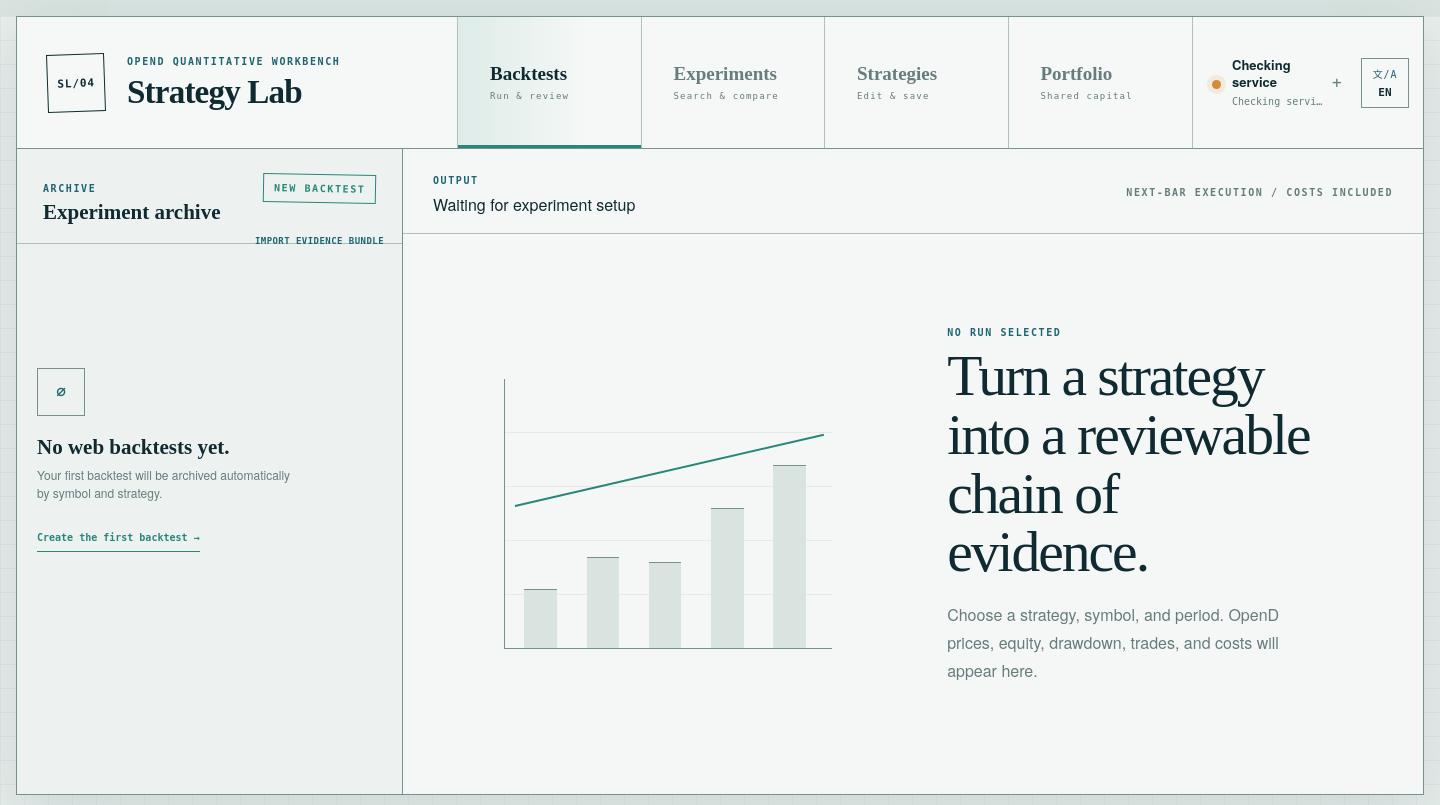
Test: workspace entity routes › moves the empty archive to a durable new-backtest URL
This screenshot has width=1440, height=805.
Click the button "Create the first backtest →". click: (118, 538)
box: [37,525,200,552]
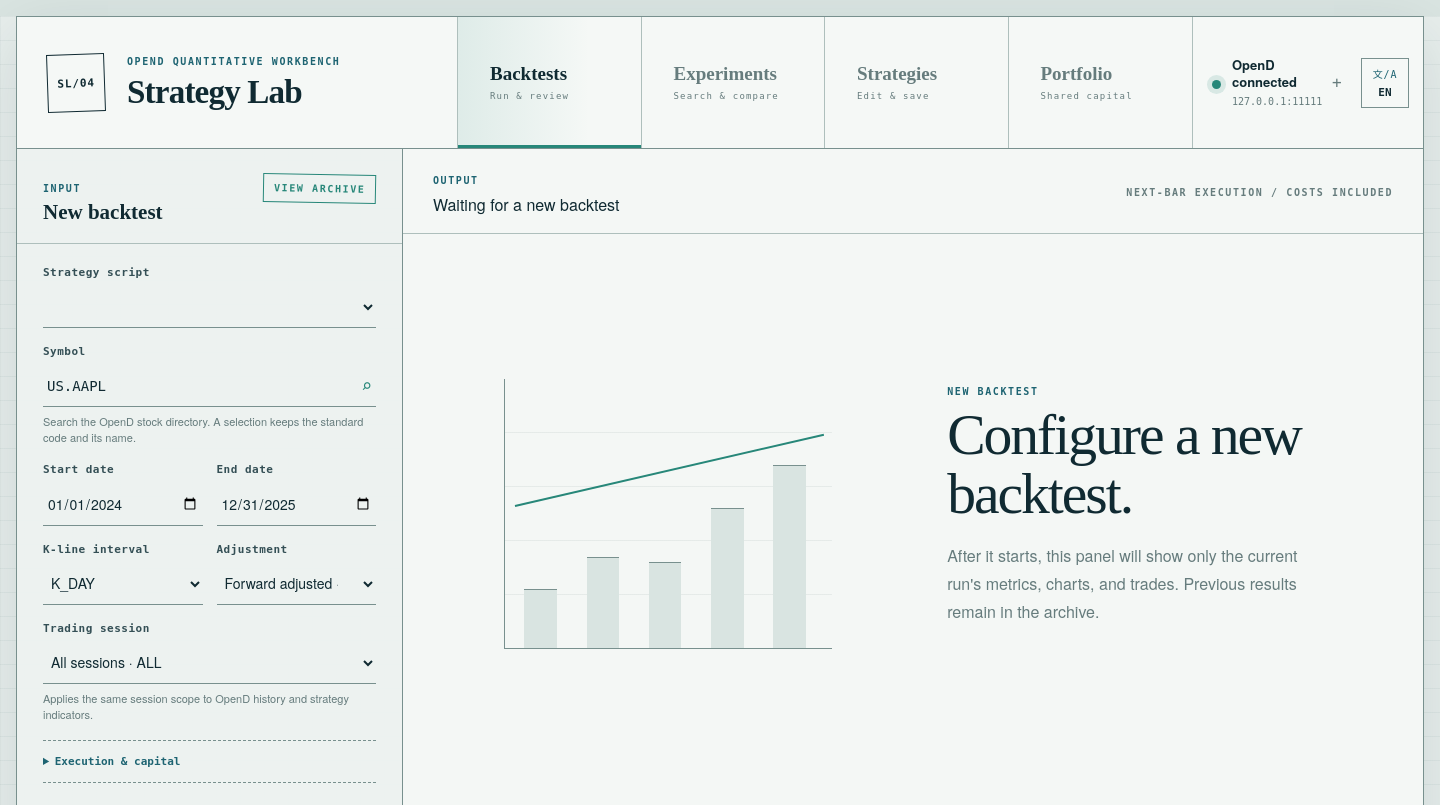
Now the text "INPUT" is shown, box [43,183,81,194]
